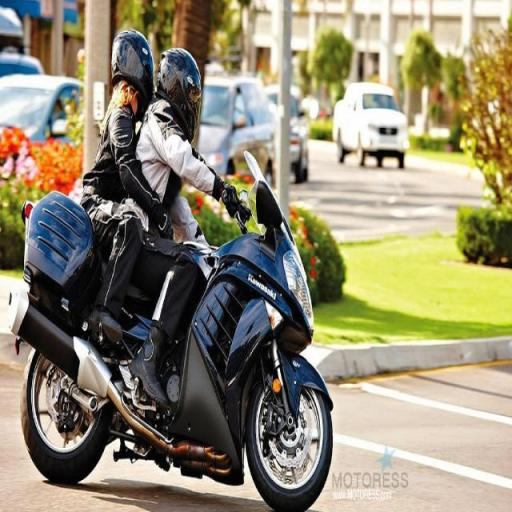Helmet: (151, 40, 204, 145), (104, 25, 156, 112)
Motor: (26, 178, 344, 500)
